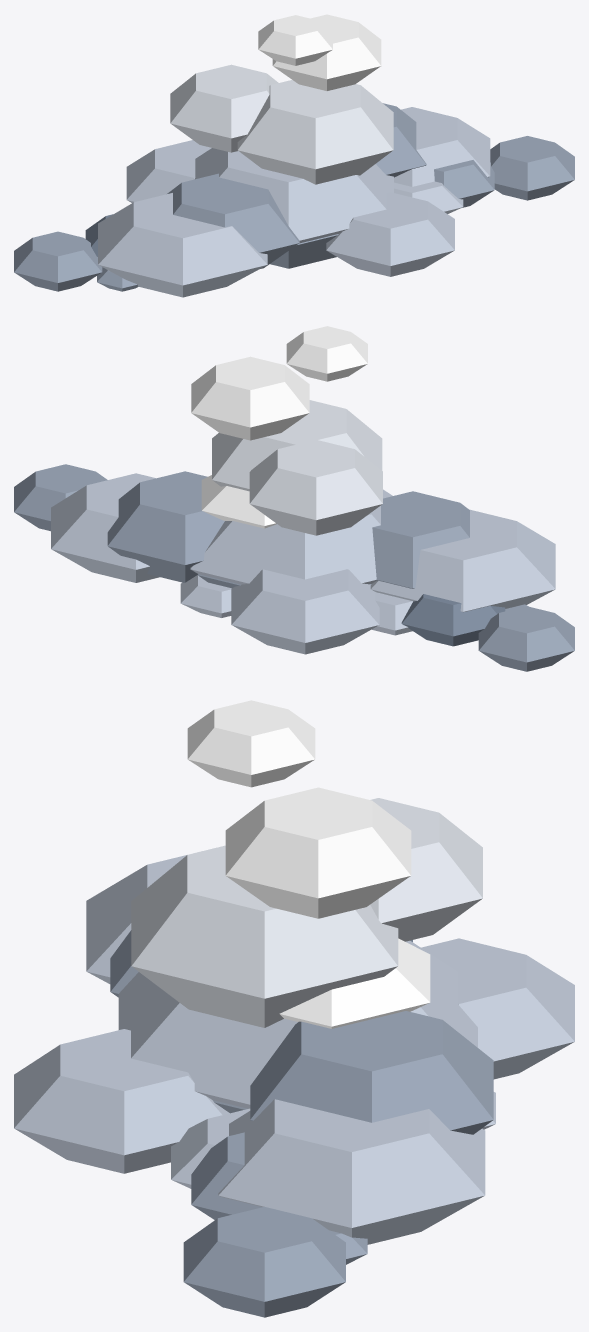
File: cloud-banks.glb
3 renders of one model, top to bottom at view 1: azimuth 30°, elevation 25°; view 2: azimuth 150°, elevation 25°; view 3: azimuth 270°, elevation 25°, orthographic. The views are drawn at different scales.
Visible parts, largest first — view 1: cloud-bank-b-lobe-3, cloud-bank-a-lobe-2, cloud-bank-a-lobe-0, cloud-bank-a-lobe-3, cloud-bank-b-lobe-4, cloud-bank-b-lobe-2, cloud-bank-a-lobe-5, cloud-bank-b-lobe-5, cloud-bank-a-lobe-1, cloud-bank-a-lobe-6, cloud-bank-a-lobe-4, cloud-bank-b-lobe-6 (+5 smaller); view 2: cloud-bank-a-lobe-2, cloud-bank-b-lobe-4, cloud-bank-a-lobe-4, cloud-bank-a-lobe-0, cloud-bank-b-lobe-1, cloud-bank-b-lobe-5, cloud-bank-a-lobe-1, cloud-bank-b-lobe-2, cloud-bank-b-lobe-3, cloud-bank-a-lobe-6, cloud-bank-b-lobe-6, cloud-bank-b-lobe-8 (+4 smaller); view 3: cloud-bank-b-lobe-3, cloud-bank-a-lobe-1, cloud-bank-b-lobe-1, cloud-bank-a-lobe-3, cloud-bank-b-lobe-5, cloud-bank-a-lobe-0, cloud-bank-a-lobe-5, cloud-bank-a-lobe-4, cloud-bank-b-lobe-4, cloud-bank-b-lobe-6, cloud-bank-a-lobe-7, cloud-bank-a-lobe-2 (+3 smaller).
Boxes of the visible parts, left/top/right/bottom form: cloud-bank-b-lobe-3: left=237, top=80, right=393, bottom=184; cloud-bank-a-lobe-2: left=98, top=193, right=267, bottom=297; cloud-bank-a-lobe-0: left=194, top=148, right=393, bottom=243; cloud-bank-a-lobe-3: left=326, top=192, right=454, bottom=276; cloud-bank-b-lobe-4: left=170, top=64, right=278, bottom=152; cloud-bank-b-lobe-2: left=167, top=173, right=299, bottom=268; cloud-bank-a-lobe-5: left=490, top=136, right=574, bottom=200; cloud-bank-b-lobe-5: left=272, top=14, right=381, bottom=90; cloud-bank-a-lobe-1: left=394, top=107, right=490, bottom=186; cloud-bank-a-lobe-6: left=14, top=231, right=102, bottom=291; cloud-bank-a-lobe-4: left=126, top=140, right=211, bottom=202; cloud-bank-b-lobe-6: left=258, top=15, right=332, bottom=65; cloud-bank-a-lobe-2: left=370, top=509, right=555, bottom=612; cloud-bank-b-lobe-4: left=249, top=439, right=382, bottom=535; cloud-bank-a-lobe-4: left=231, top=569, right=379, bottom=654; cloud-bank-a-lobe-0: left=190, top=489, right=392, bottom=584; cloud-bank-b-lobe-1: left=107, top=471, right=224, bottom=582; cloud-bank-b-lobe-5: left=191, top=356, right=309, bottom=440; cloud-bank-a-lobe-1: left=51, top=473, right=159, bottom=582; cloud-bank-b-lobe-2: left=372, top=491, right=469, bottom=588; cloud-bank-b-lobe-3: left=212, top=400, right=382, bottom=491; cloud-bank-a-lobe-6: left=478, top=606, right=574, bottom=671; cloud-bank-b-lobe-6: left=286, top=326, right=367, bottom=381; cloud-bank-b-lobe-8: left=401, top=594, right=505, bottom=646; cloud-bank-b-lobe-3: left=131, top=845, right=398, bottom=1027; cloud-bank-a-lobe-1: left=218, top=1099, right=485, bottom=1244; cloud-bank-b-lobe-1: left=250, top=1011, right=493, bottom=1134; cloud-bank-a-lobe-3: left=14, top=1029, right=229, bottom=1173; cloud-bank-b-lobe-5: left=225, top=787, right=411, bottom=918; cloud-bank-a-lobe-0: left=118, top=940, right=477, bottom=1108; cloud-bank-a-lobe-5: left=183, top=1207, right=345, bottom=1317; cloud-bank-a-lobe-4: left=421, top=938, right=574, bottom=1079; cloud-bank-b-lobe-4: left=370, top=798, right=482, bottom=941; cloud-bank-b-lobe-6: left=187, top=700, right=315, bottom=787; cloud-bank-a-lobe-7: left=279, top=938, right=430, bottom=1028; cloud-bank-a-lobe-2: left=86, top=855, right=186, bottom=983.
Bounding box in the file's own units: 3.17 × 1.3 × 1.68.
